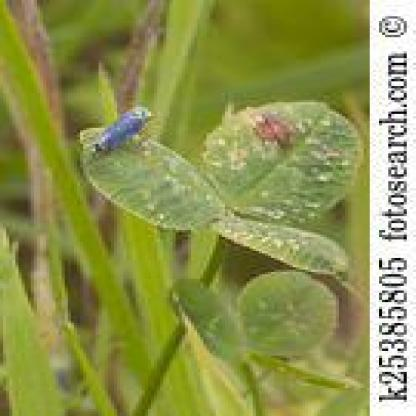Green-Leafhopper: (89, 104, 156, 160)
